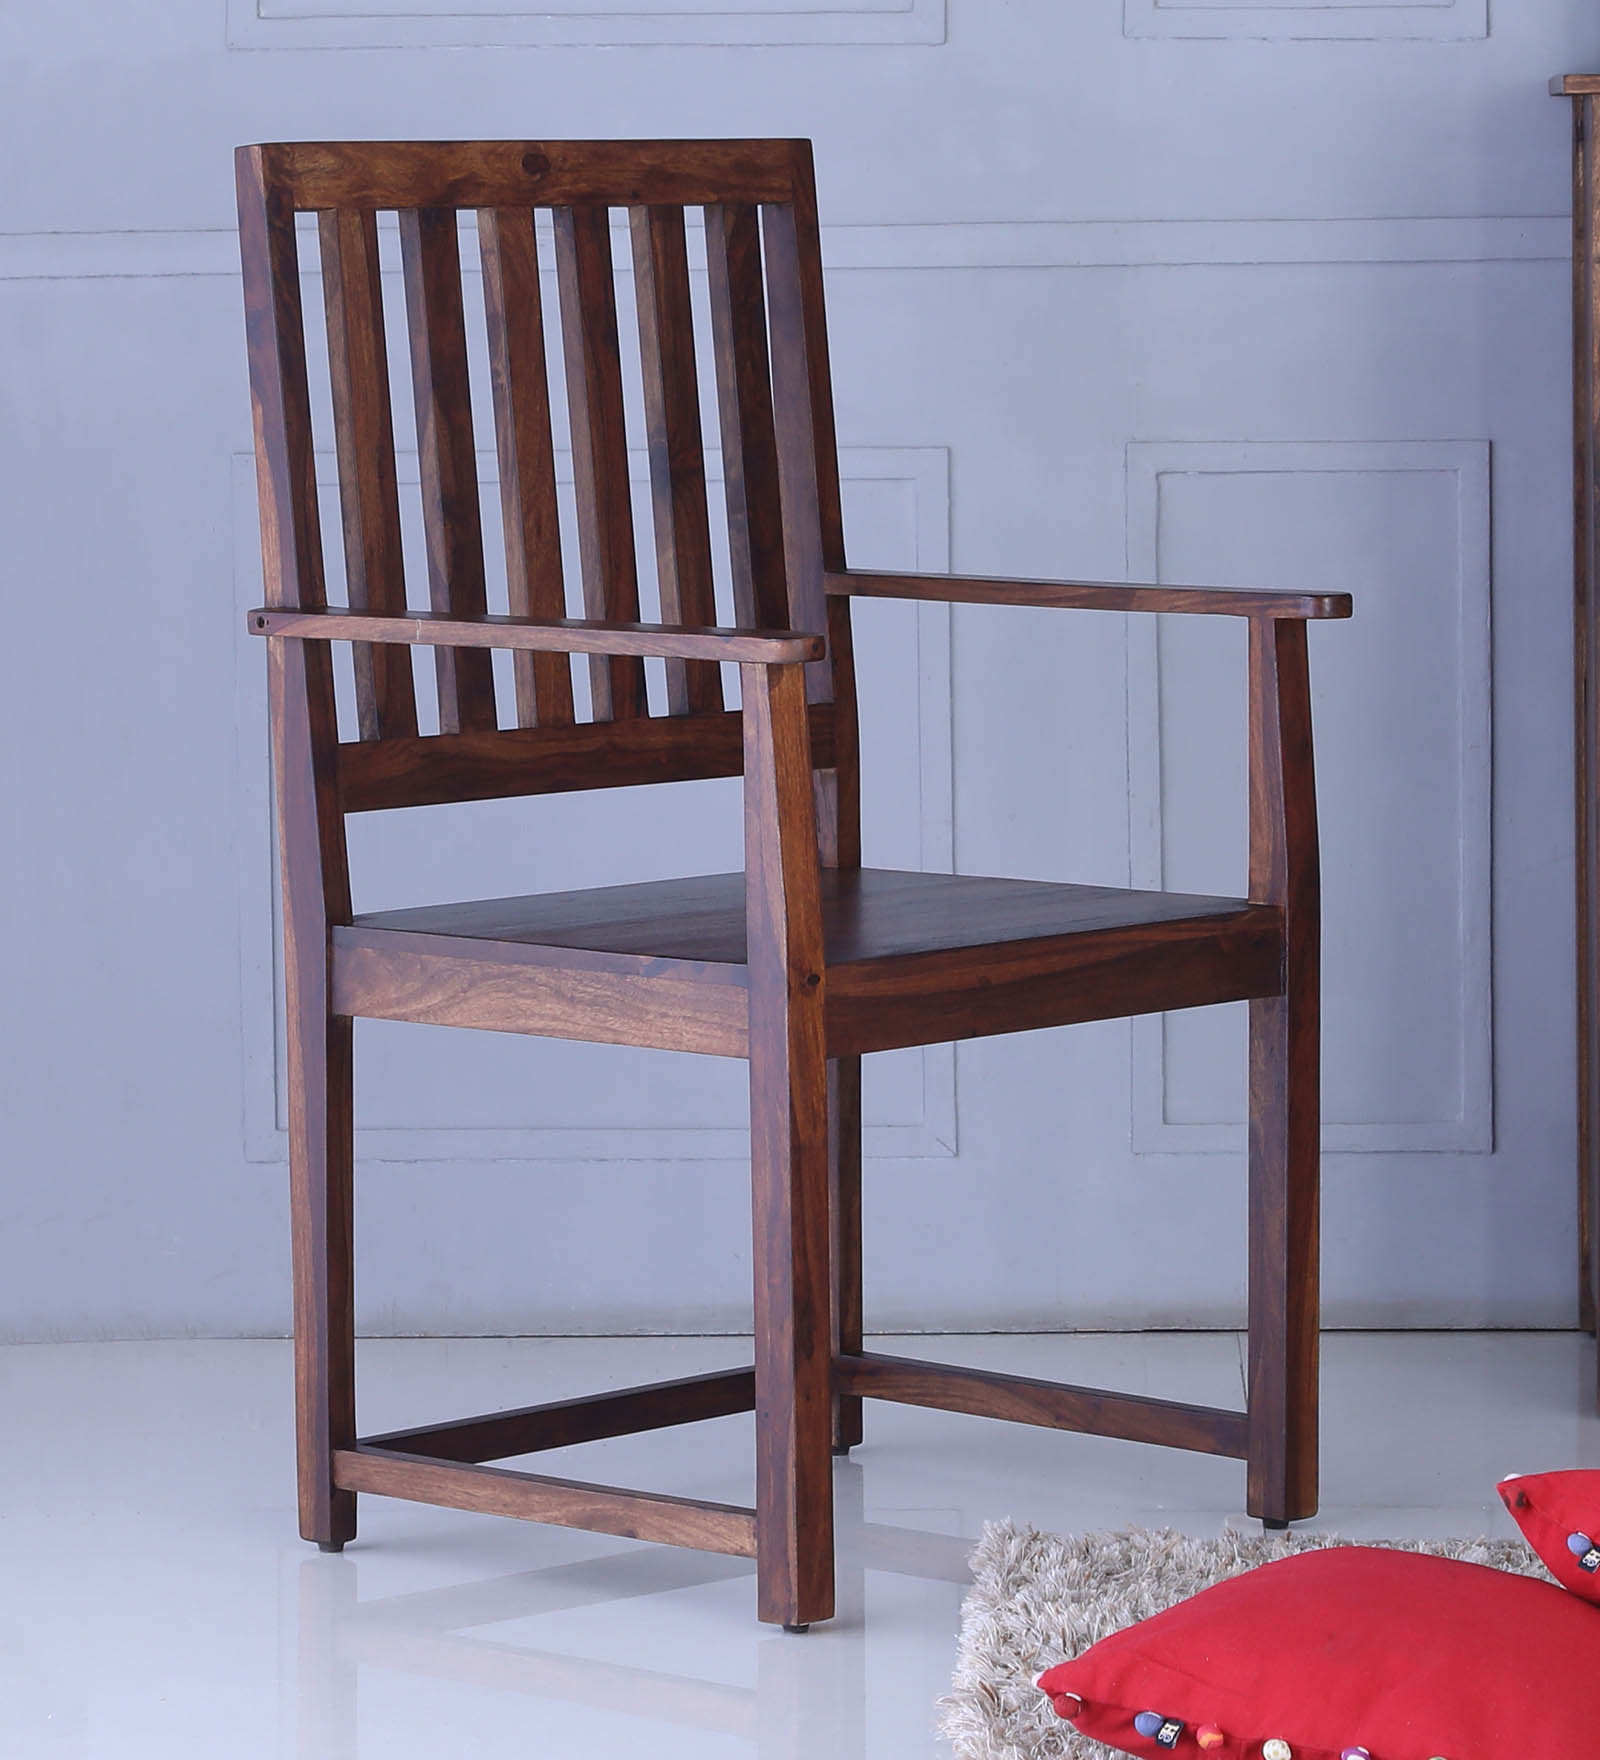Abbey Arm Chair in Honey Oak Finish by Woodsworth: (211, 101, 1372, 1631)
